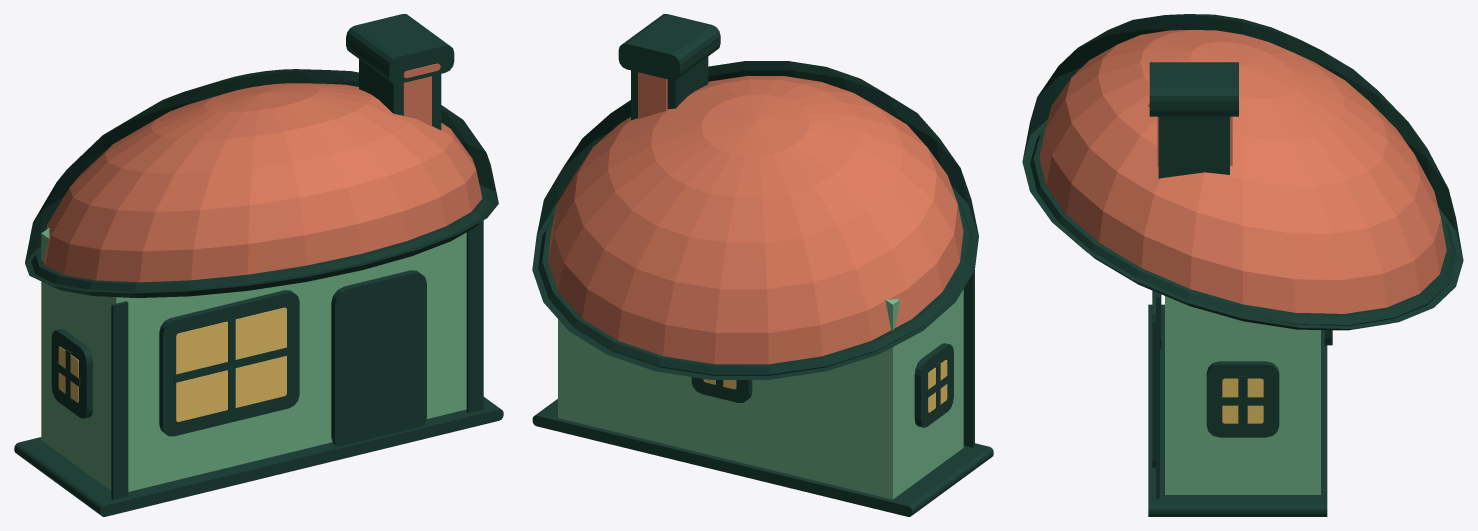
File: variant-10.glb
3 views of the same model, side by side, from view 1: azimuth 30°, elevation 25°; view 2: azimuth 150°, elevation 25°; view 3: azimuth 270°, elevation 25° (orthographic). The views are drawn at different scales.
Parts seen in each view (by area): view 1: Clay dome; view 2: Clay dome; view 3: Clay dome.
Part boxes in pixels (x1,y1,x2,y2): Clay dome: [14, 14, 503, 516]; Clay dome: [532, 14, 993, 516]; Clay dome: [1022, 14, 1463, 516].
Size of the model in its own units: 1.12 by 0.9771 by 0.9714.
